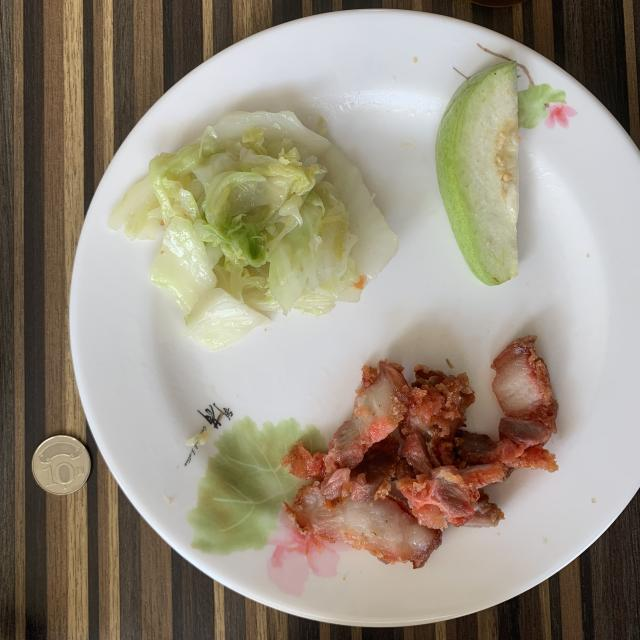cabbage: (109, 111, 394, 350)
coin: (31, 435, 90, 495)
guava -sliced-: (436, 61, 519, 285)
red grilled pork: (282, 336, 559, 568)
